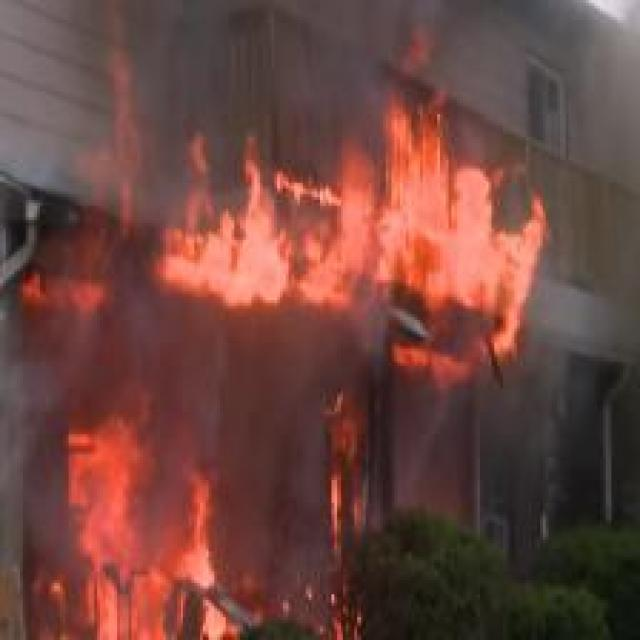Fire: (22, 6, 548, 392), (34, 392, 243, 638)
